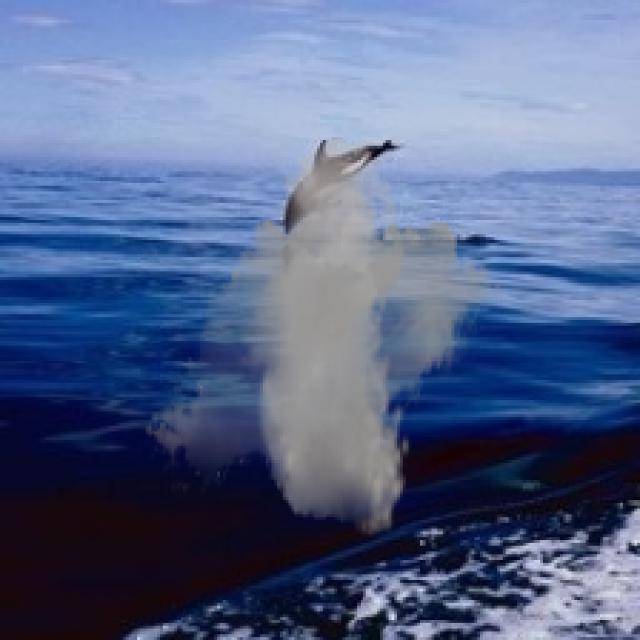smoke: (143, 137, 503, 537)
